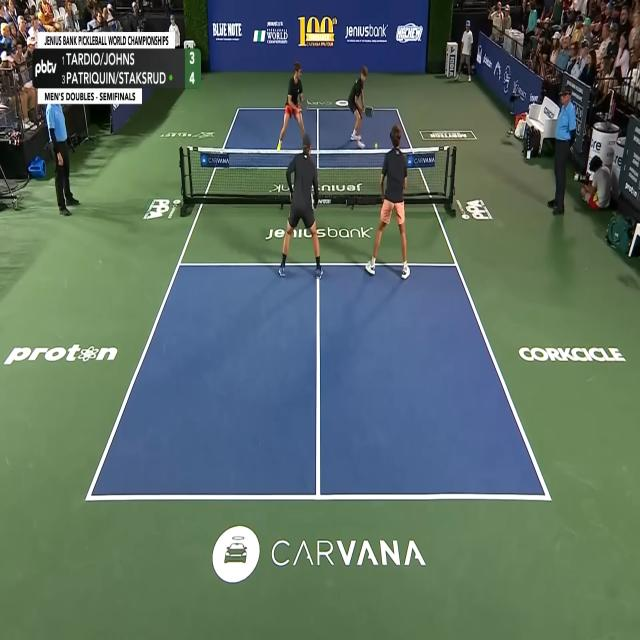ball: (374, 142, 378, 147)
